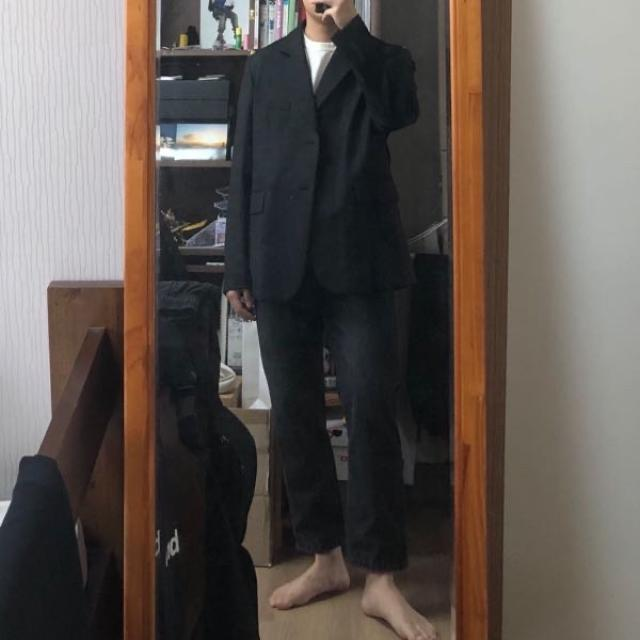blazer: (221, 26, 424, 304)
denimpants: (247, 234, 411, 570)
